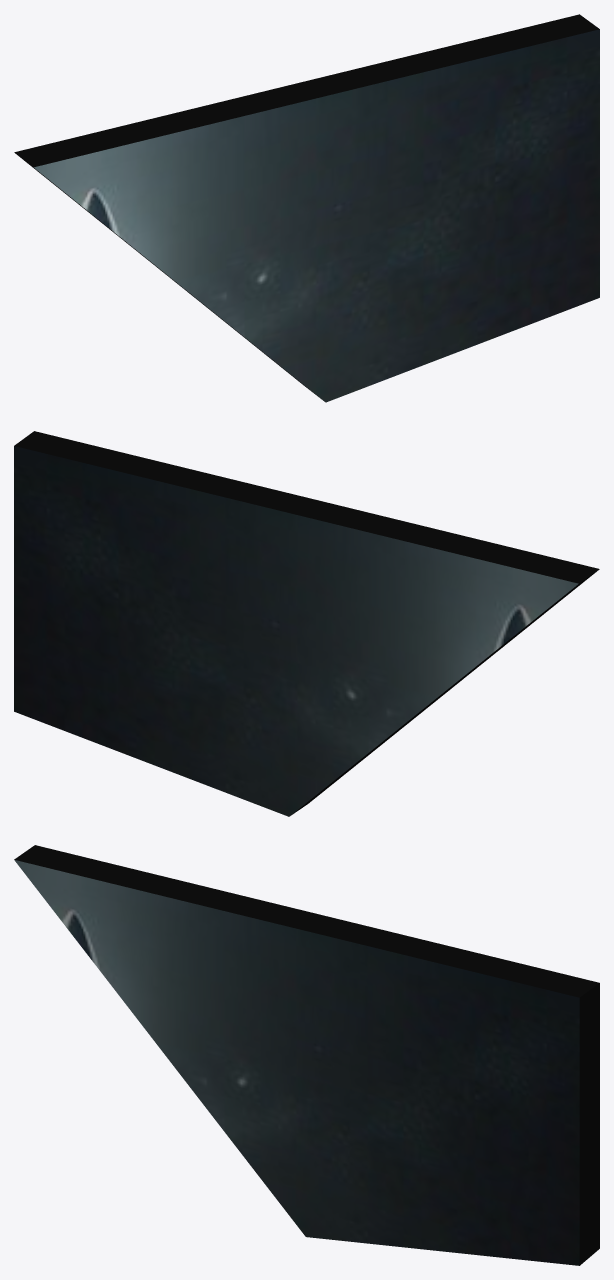
File: Puzzle_2_Cell_11.glb
3 views of the same model, one above another, from view 1: azimuth 30°, elevation 25°; view 2: azimuth 150°, elevation 25°; view 3: azimuth 330°, elevation 25° (orthographic).
Parts seen in each view (by area): view 1: Puzzle_1_cell.011; view 2: Puzzle_1_cell.011; view 3: Puzzle_1_cell.011.
Part boxes in pixels (x1,y1,x2,y2): Puzzle_1_cell.011: (14,14,599,402); Puzzle_1_cell.011: (14,431,599,816); Puzzle_1_cell.011: (14,845,599,1265).
Size of the model in its own units: 2.41 by 1.25 by 0.15.
2 materials, 1 textured.
